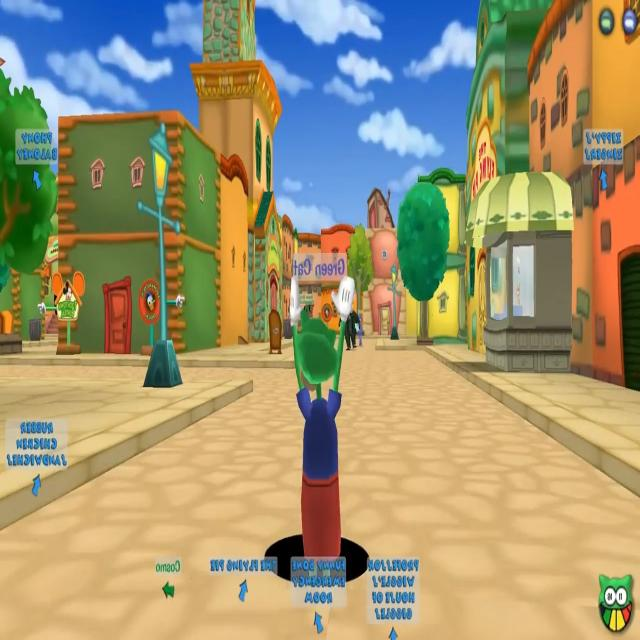tightwad: (336, 305, 362, 353)
